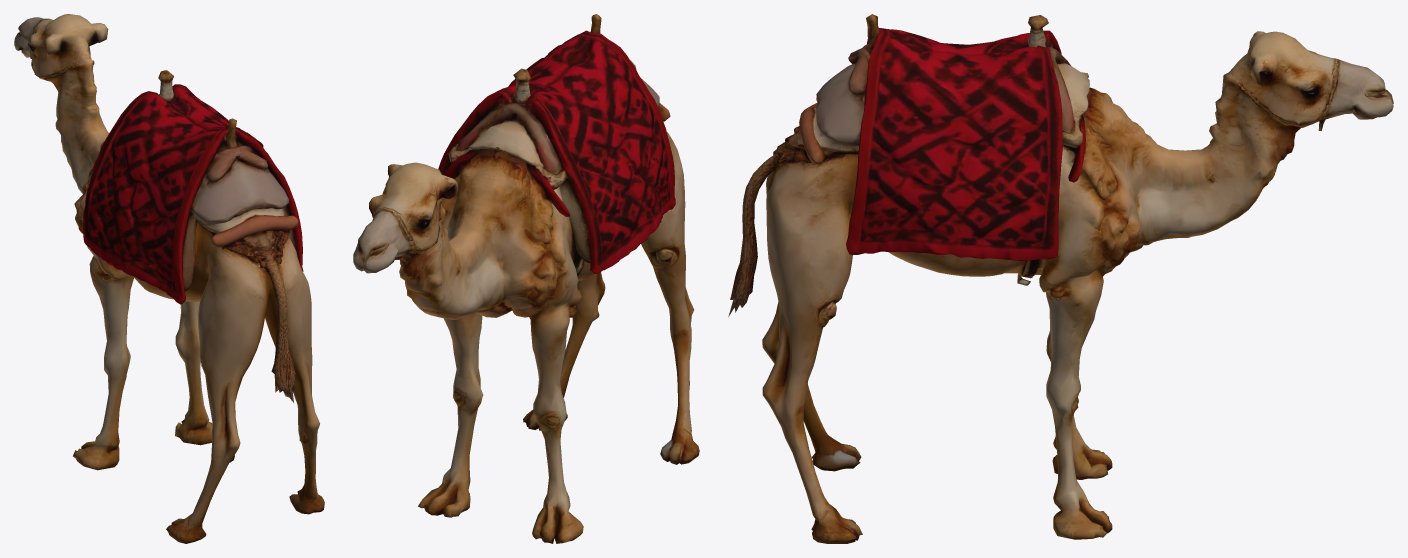
Rendered from camel.glb.
The picture shows the model from 3 angles, left to right: view 1: azimuth 30°, elevation 25°; view 2: azimuth 150°, elevation 25°; view 3: azimuth 270°, elevation 25°; orthographic projection. The views are drawn at different scales.
Parts seen in each view (by area): view 1: tripo_node_edcae787-6c5d-4494-a975-e59045af92e7; view 2: tripo_node_edcae787-6c5d-4494-a975-e59045af92e7; view 3: tripo_node_edcae787-6c5d-4494-a975-e59045af92e7.
Boxes of the visible parts, bbox=[...] form: tripo_node_edcae787-6c5d-4494-a975-e59045af92e7: bbox=[14, 14, 324, 543]; tripo_node_edcae787-6c5d-4494-a975-e59045af92e7: bbox=[353, 14, 699, 543]; tripo_node_edcae787-6c5d-4494-a975-e59045af92e7: bbox=[728, 14, 1393, 543].
Bounding box in the file's own units: 0.3477 × 0.8071 × 1.
Materials: 1 (1 with a texture image).
